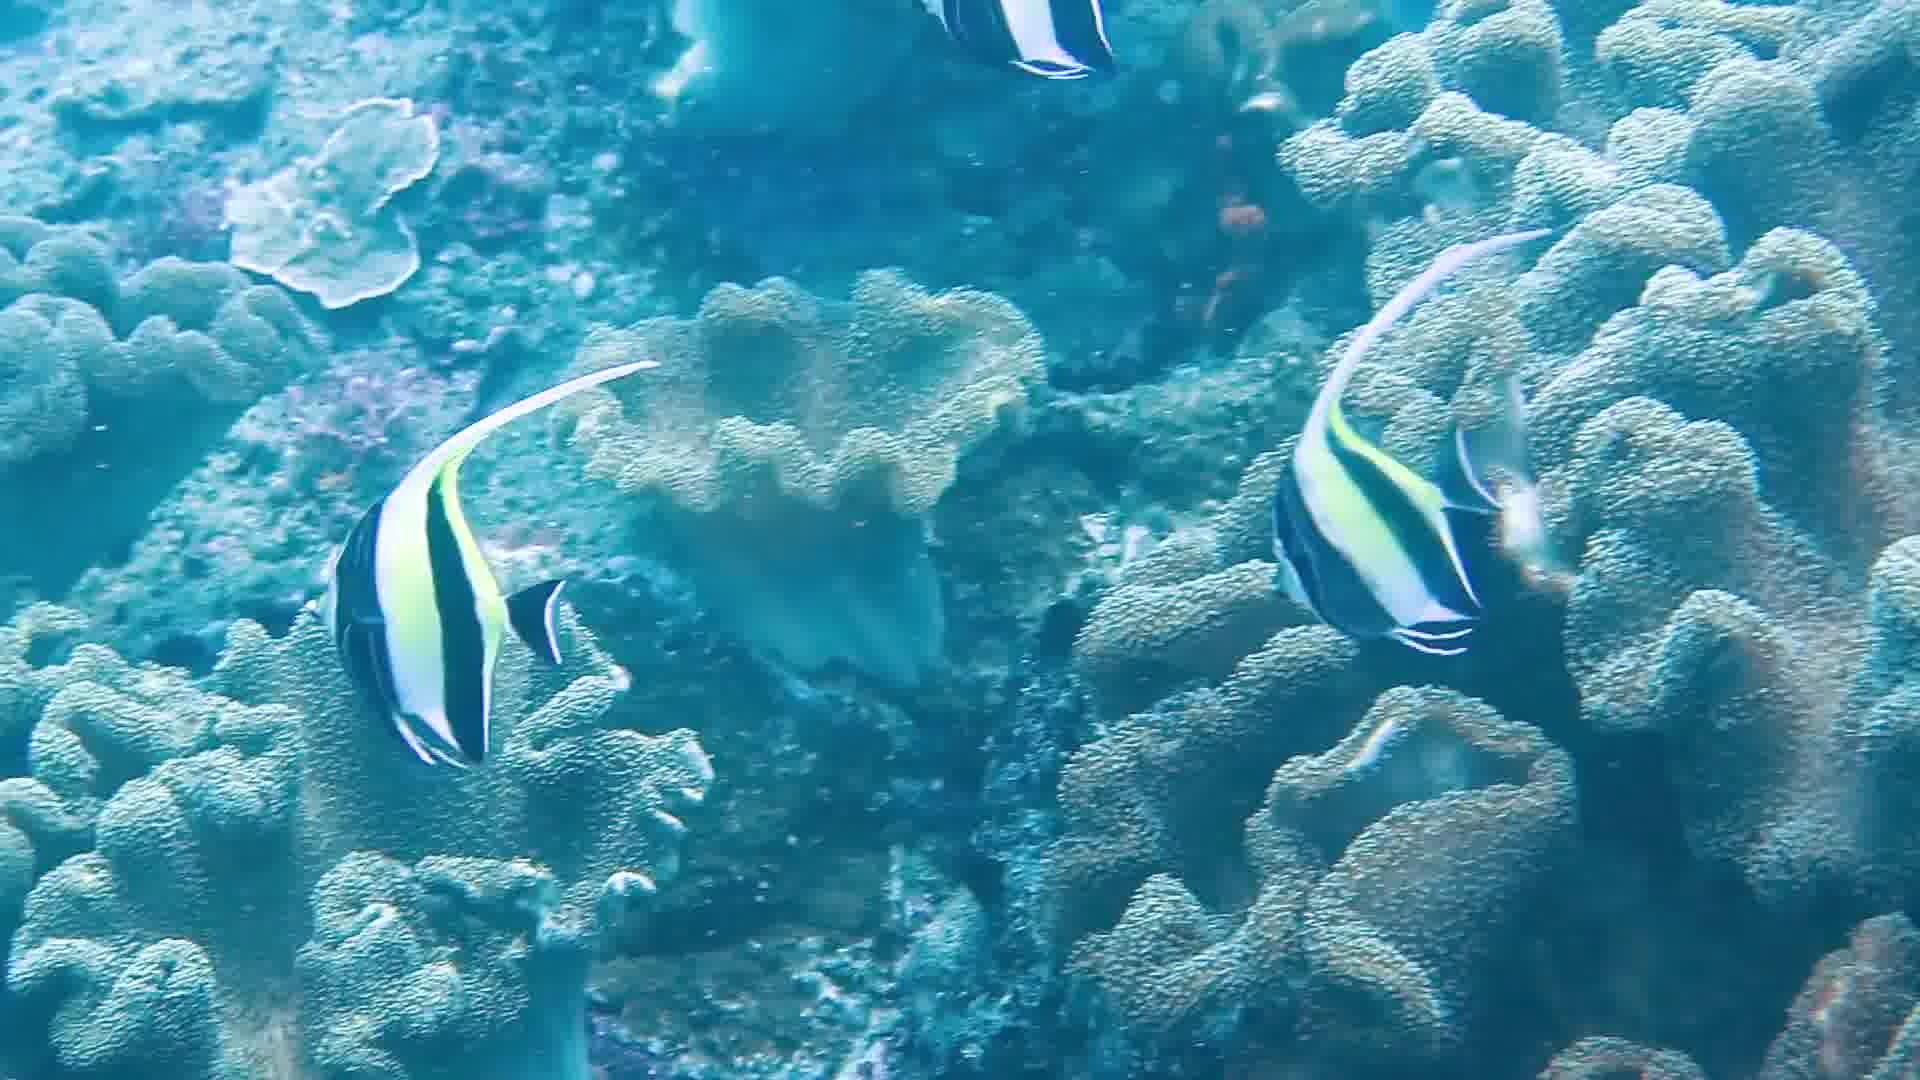Zanclus cornutus: (327, 434, 559, 781), (1247, 334, 1480, 680)
